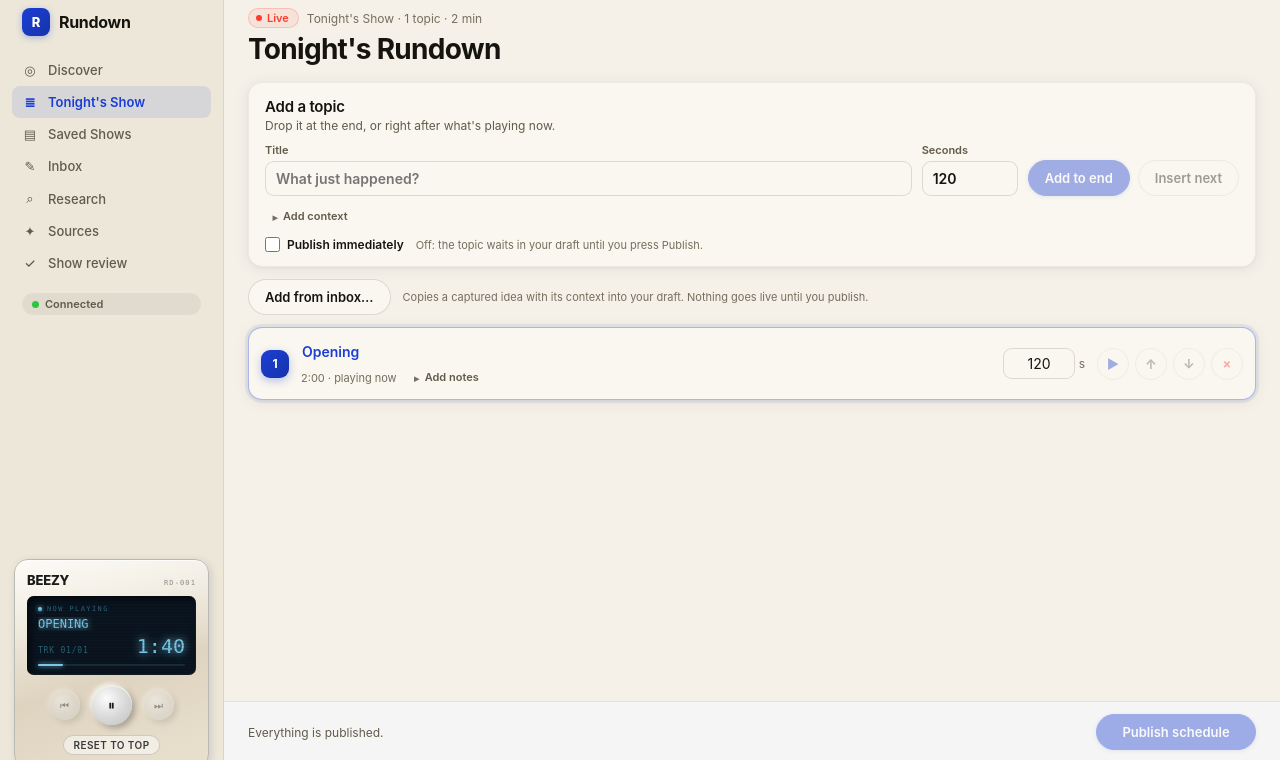
Test case: a failed run is a visible failure, adds nothing, is kept in history, and a retry is only ever deliberate
Expected: the field showing "Opening" is shown, [295,338,985,365]
Click the button "✦ Sources" at (112, 231), box [12,215,211,247]
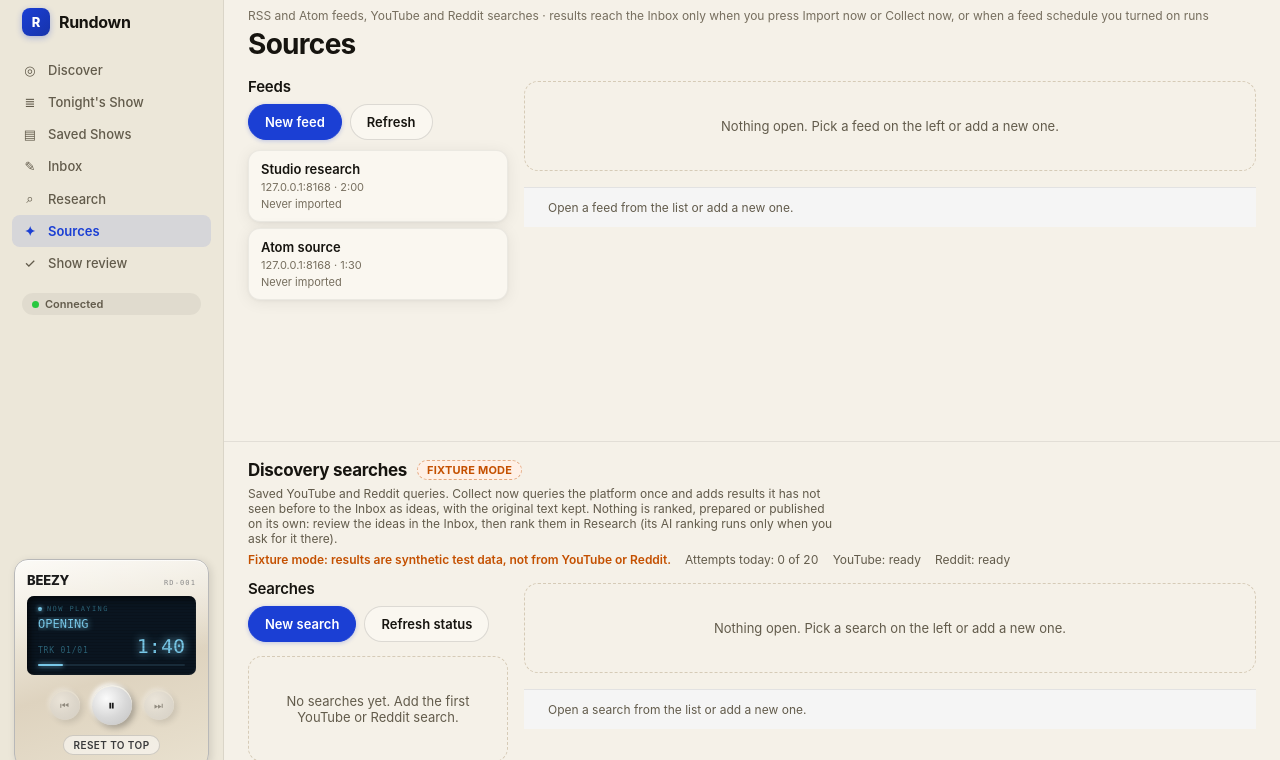
Result: the heading "Sources" is shown at [248,27,1256,61]
Click the button named "Open Atom source" at (301, 247), box [248,228,508,300]
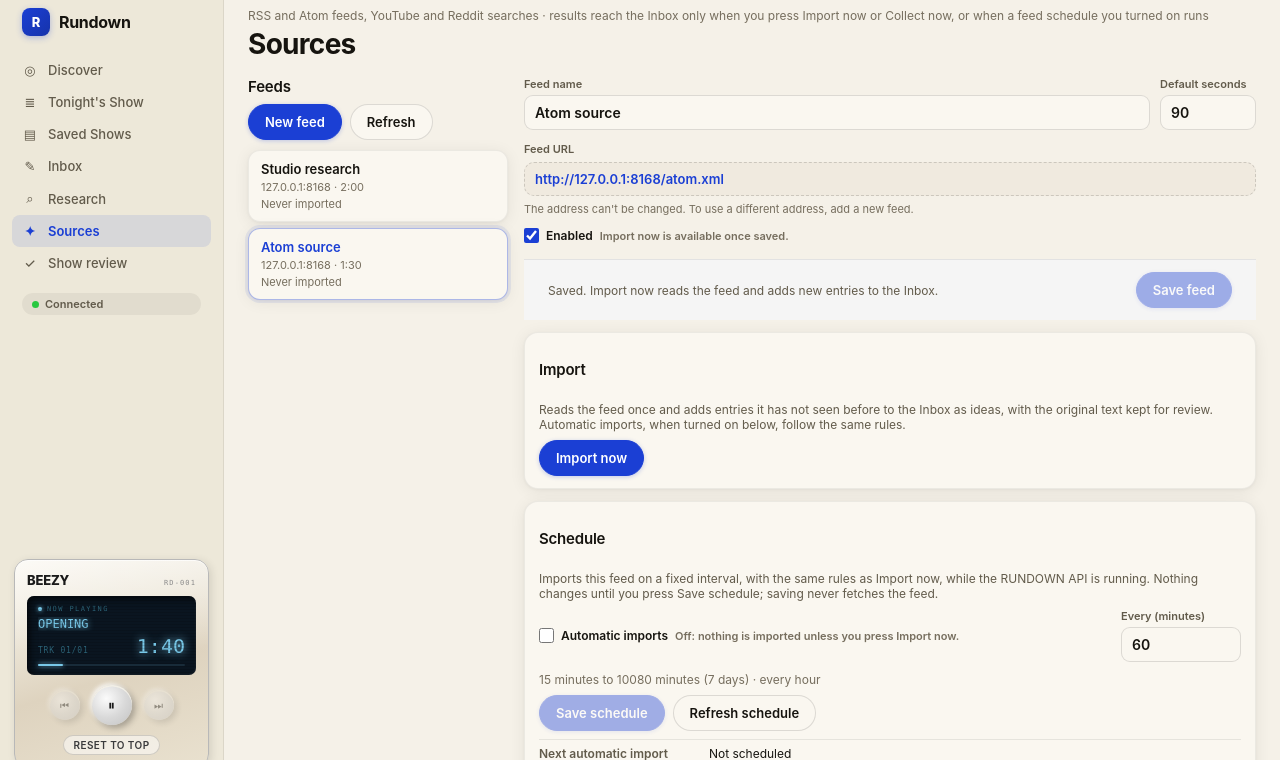
Result: the field labelled "Feed name" holds "Atom source" at [524,95,1150,130]
Click the button "Import now" at (592, 458), box [539,440,644,476]
Wait 5000 ms
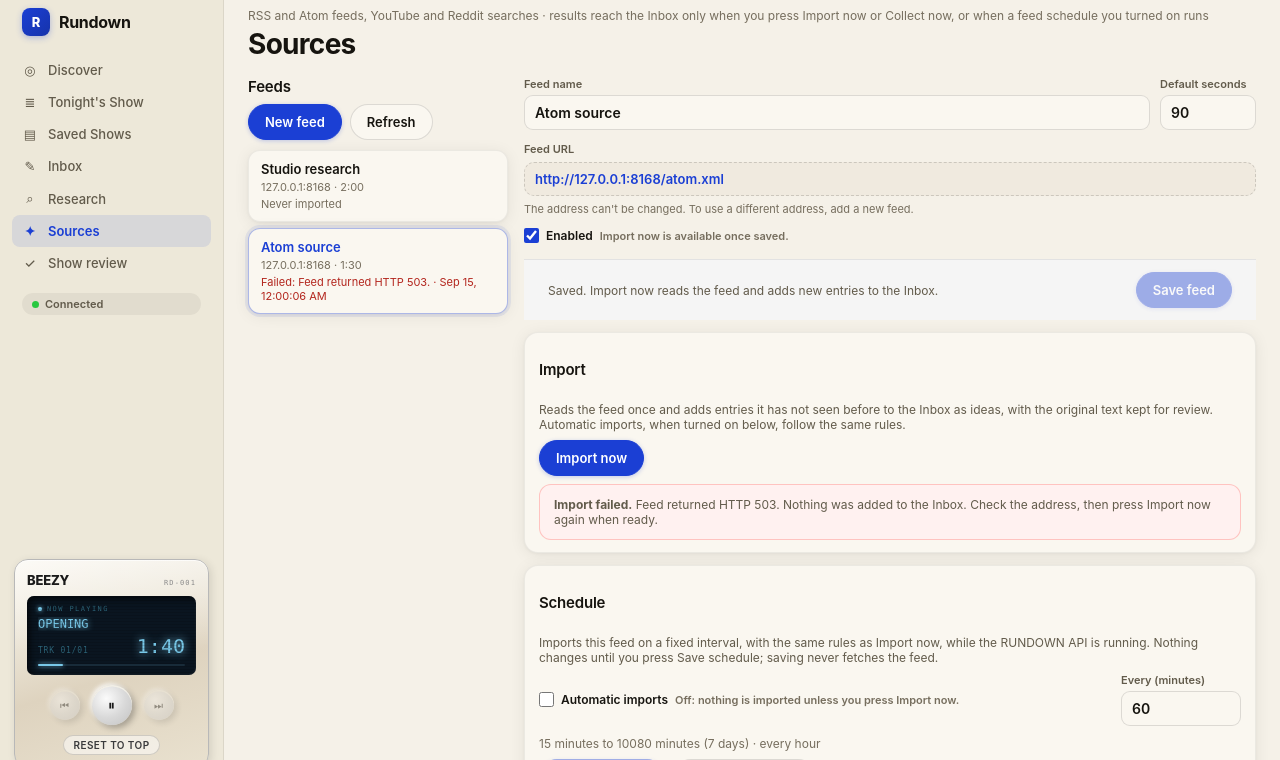
Result: the button "Import now" is enabled
Result: the message that starts with "Import failed." shows "Import failed. Feed returned HTTP 503. Nothing was added to the Inbox." at [539,484,1241,540]
Result: the button named "Open Atom source" shows "Failed: Feed returned HTTP 503." at [248,228,508,314]
Click the button "Import now" at (592, 458), box [539,440,644,476]
(page scrolled)
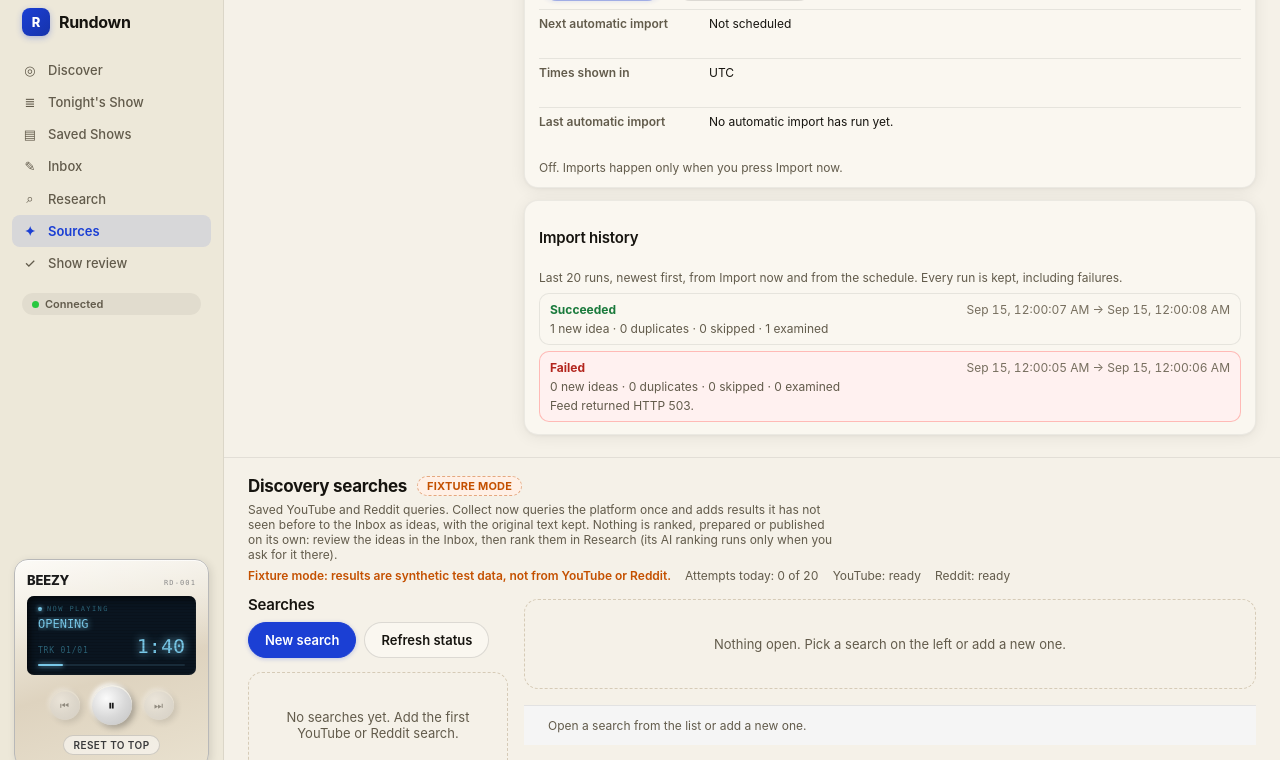
Result: the list item that starts with "Failed" is shown at [550,360,585,375]
Result: the list item that starts with "Succeeded" is shown at [550,302,616,317]
